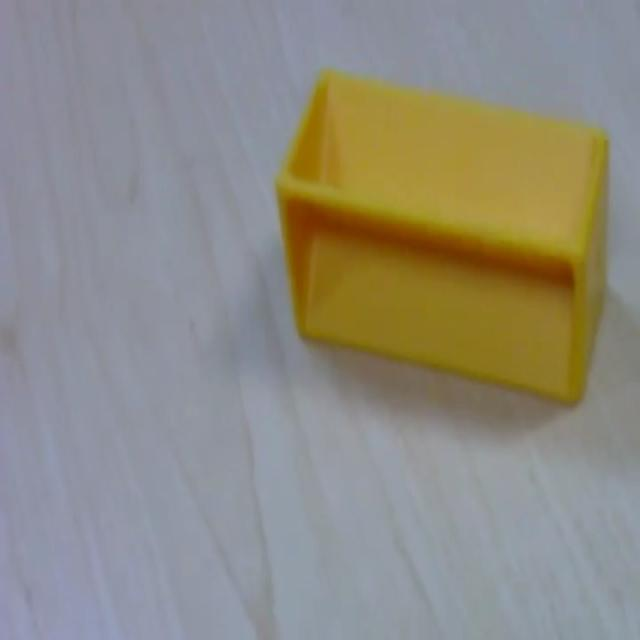yellow_block: (274, 64, 610, 407)
